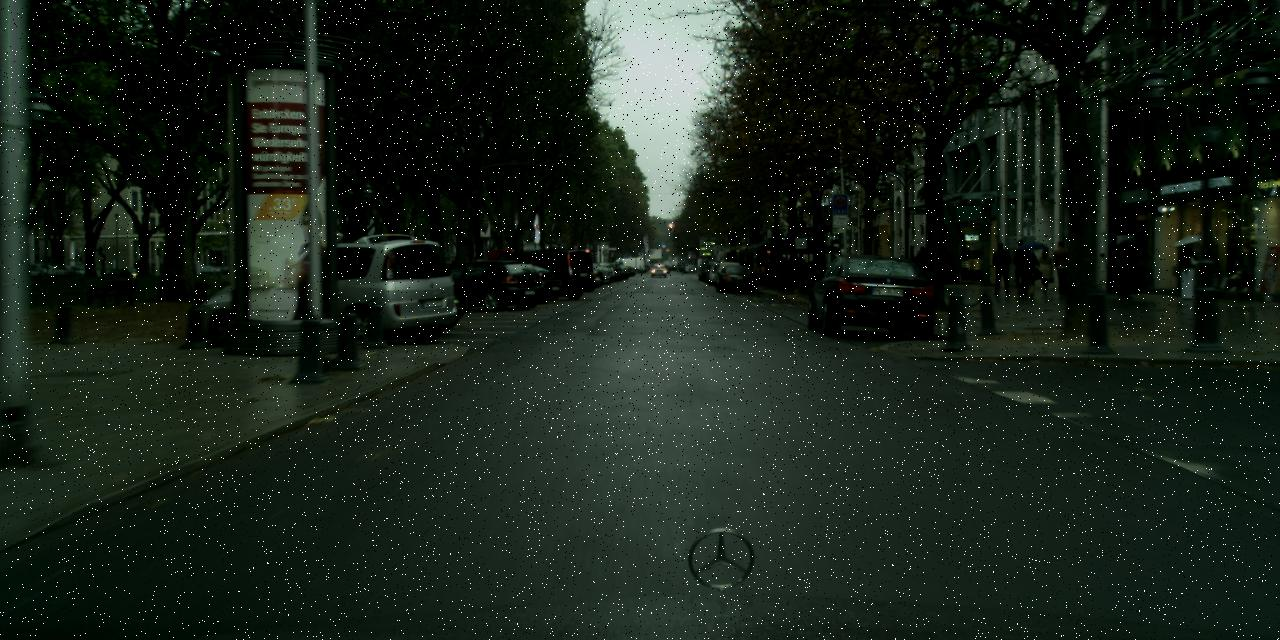ped: (1174, 236, 1199, 296), (1116, 239, 1140, 298), (1016, 246, 1038, 300), (1011, 239, 1032, 293), (990, 242, 1011, 295), (1051, 242, 1072, 292), (1036, 246, 1055, 293), (900, 246, 924, 276), (945, 250, 953, 276)
